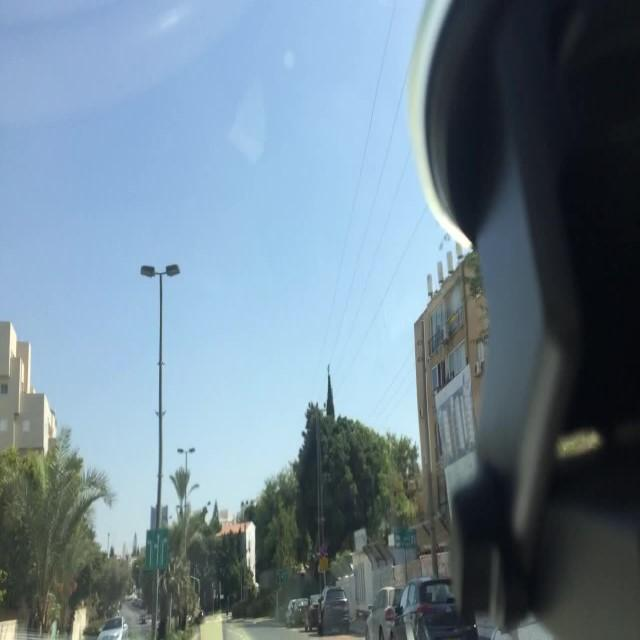normal: (246, 566, 533, 640)
